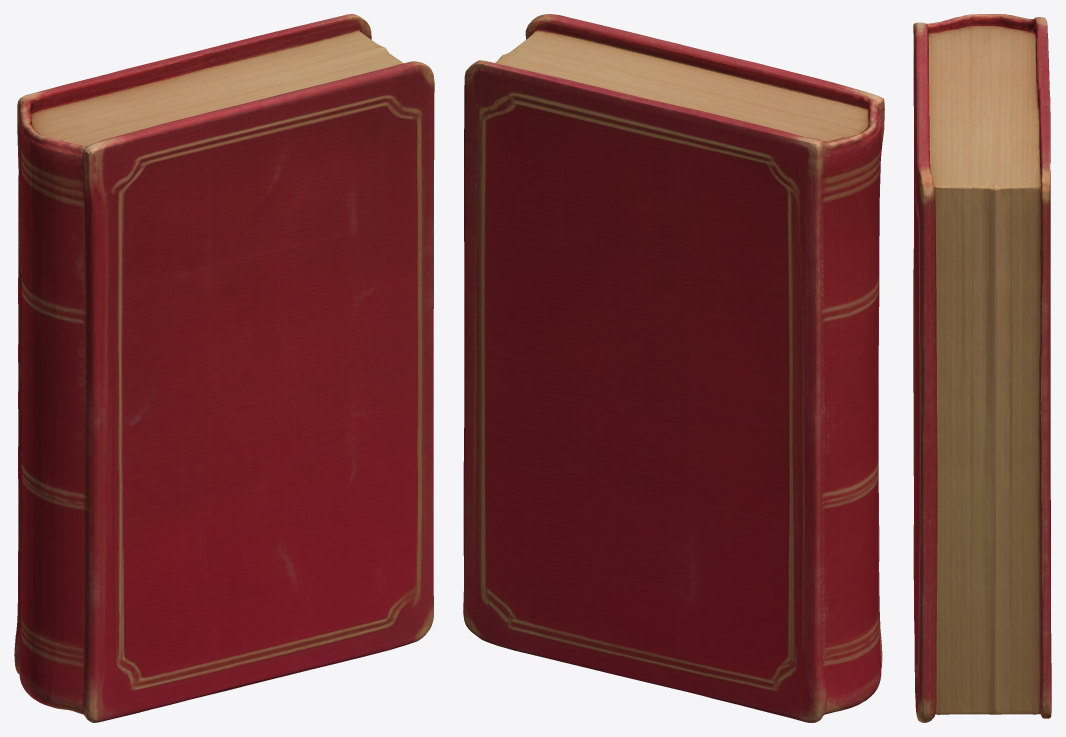
The model's file is m_book.glb.
3 renders of one model, left to right at view 1: azimuth 30°, elevation 25°; view 2: azimuth 150°, elevation 25°; view 3: azimuth 270°, elevation 25°, orthographic. The views are drawn at different scales.
Parts seen in each view (by area): view 1: geometry_0; view 2: geometry_0; view 3: geometry_0.
Part boxes in pixels (x1,y1,x2,y2): geometry_0: (14, 14, 434, 722); geometry_0: (463, 14, 884, 722); geometry_0: (913, 14, 1051, 722).
Size of the model in its own units: 0.6741 by 0.9996 by 0.2265.
1 material, 1 textured.
